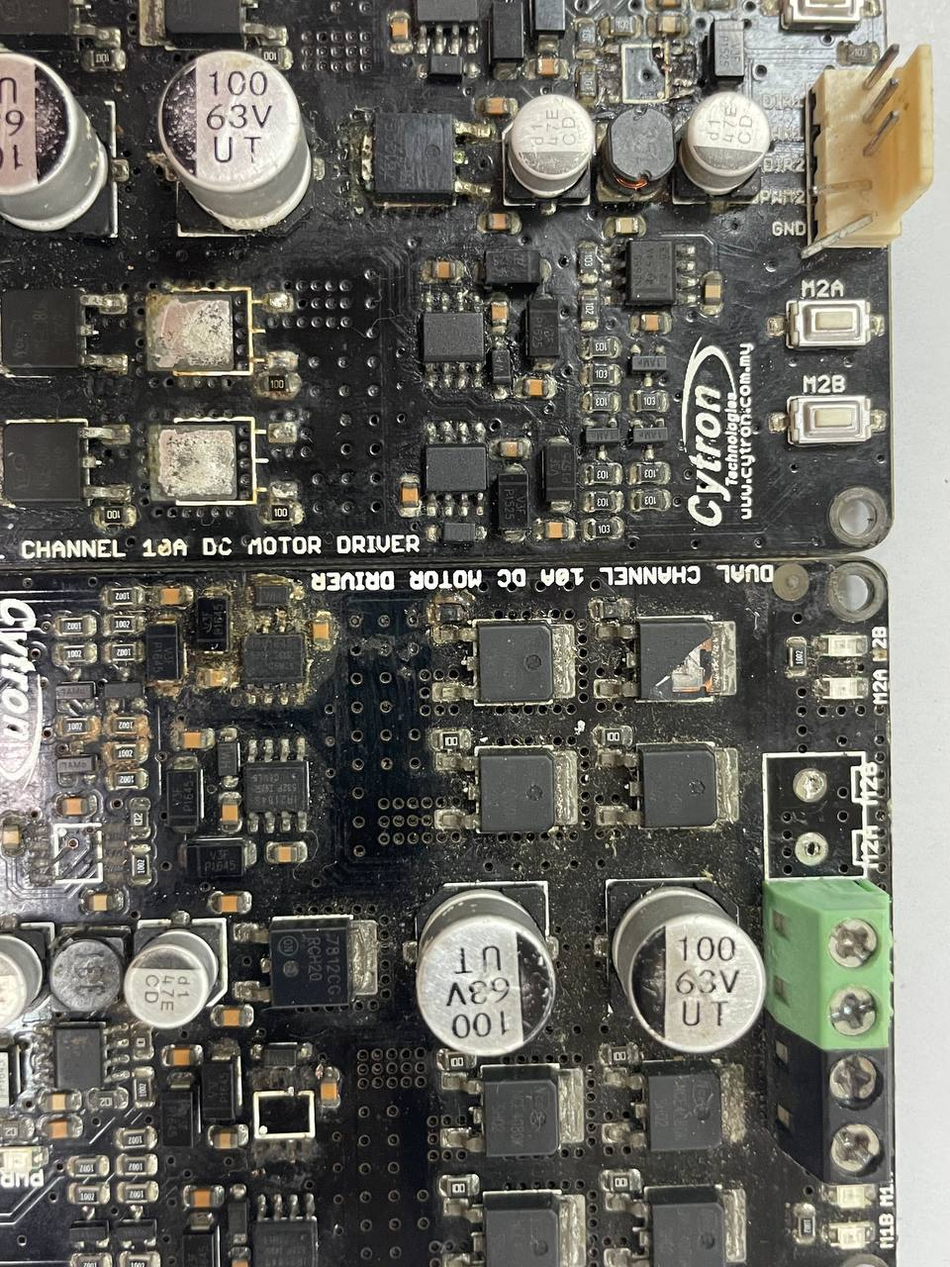bent_pin: (792, 212, 880, 266), (798, 167, 875, 211)
broken_comp: (615, 616, 735, 706)
missing_comp: (140, 413, 265, 507), (144, 280, 260, 381), (46, 818, 105, 888), (253, 1092, 315, 1142)
missing_tb: (763, 754, 880, 880)
